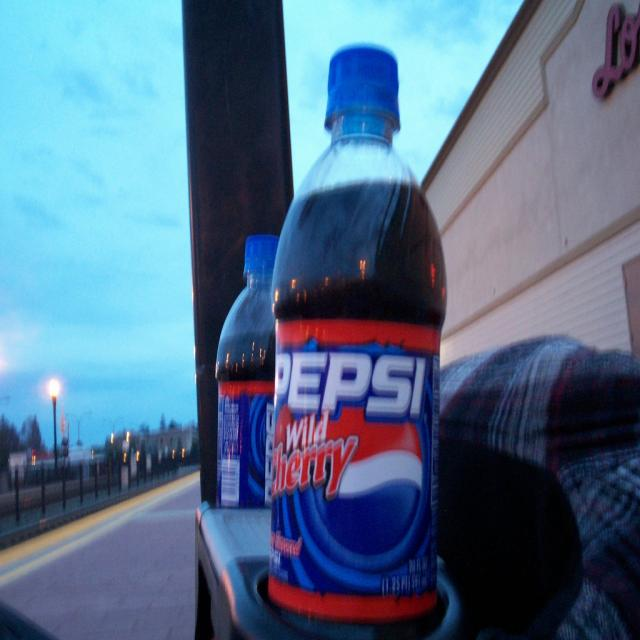pepsi: (315, 401, 429, 555)
